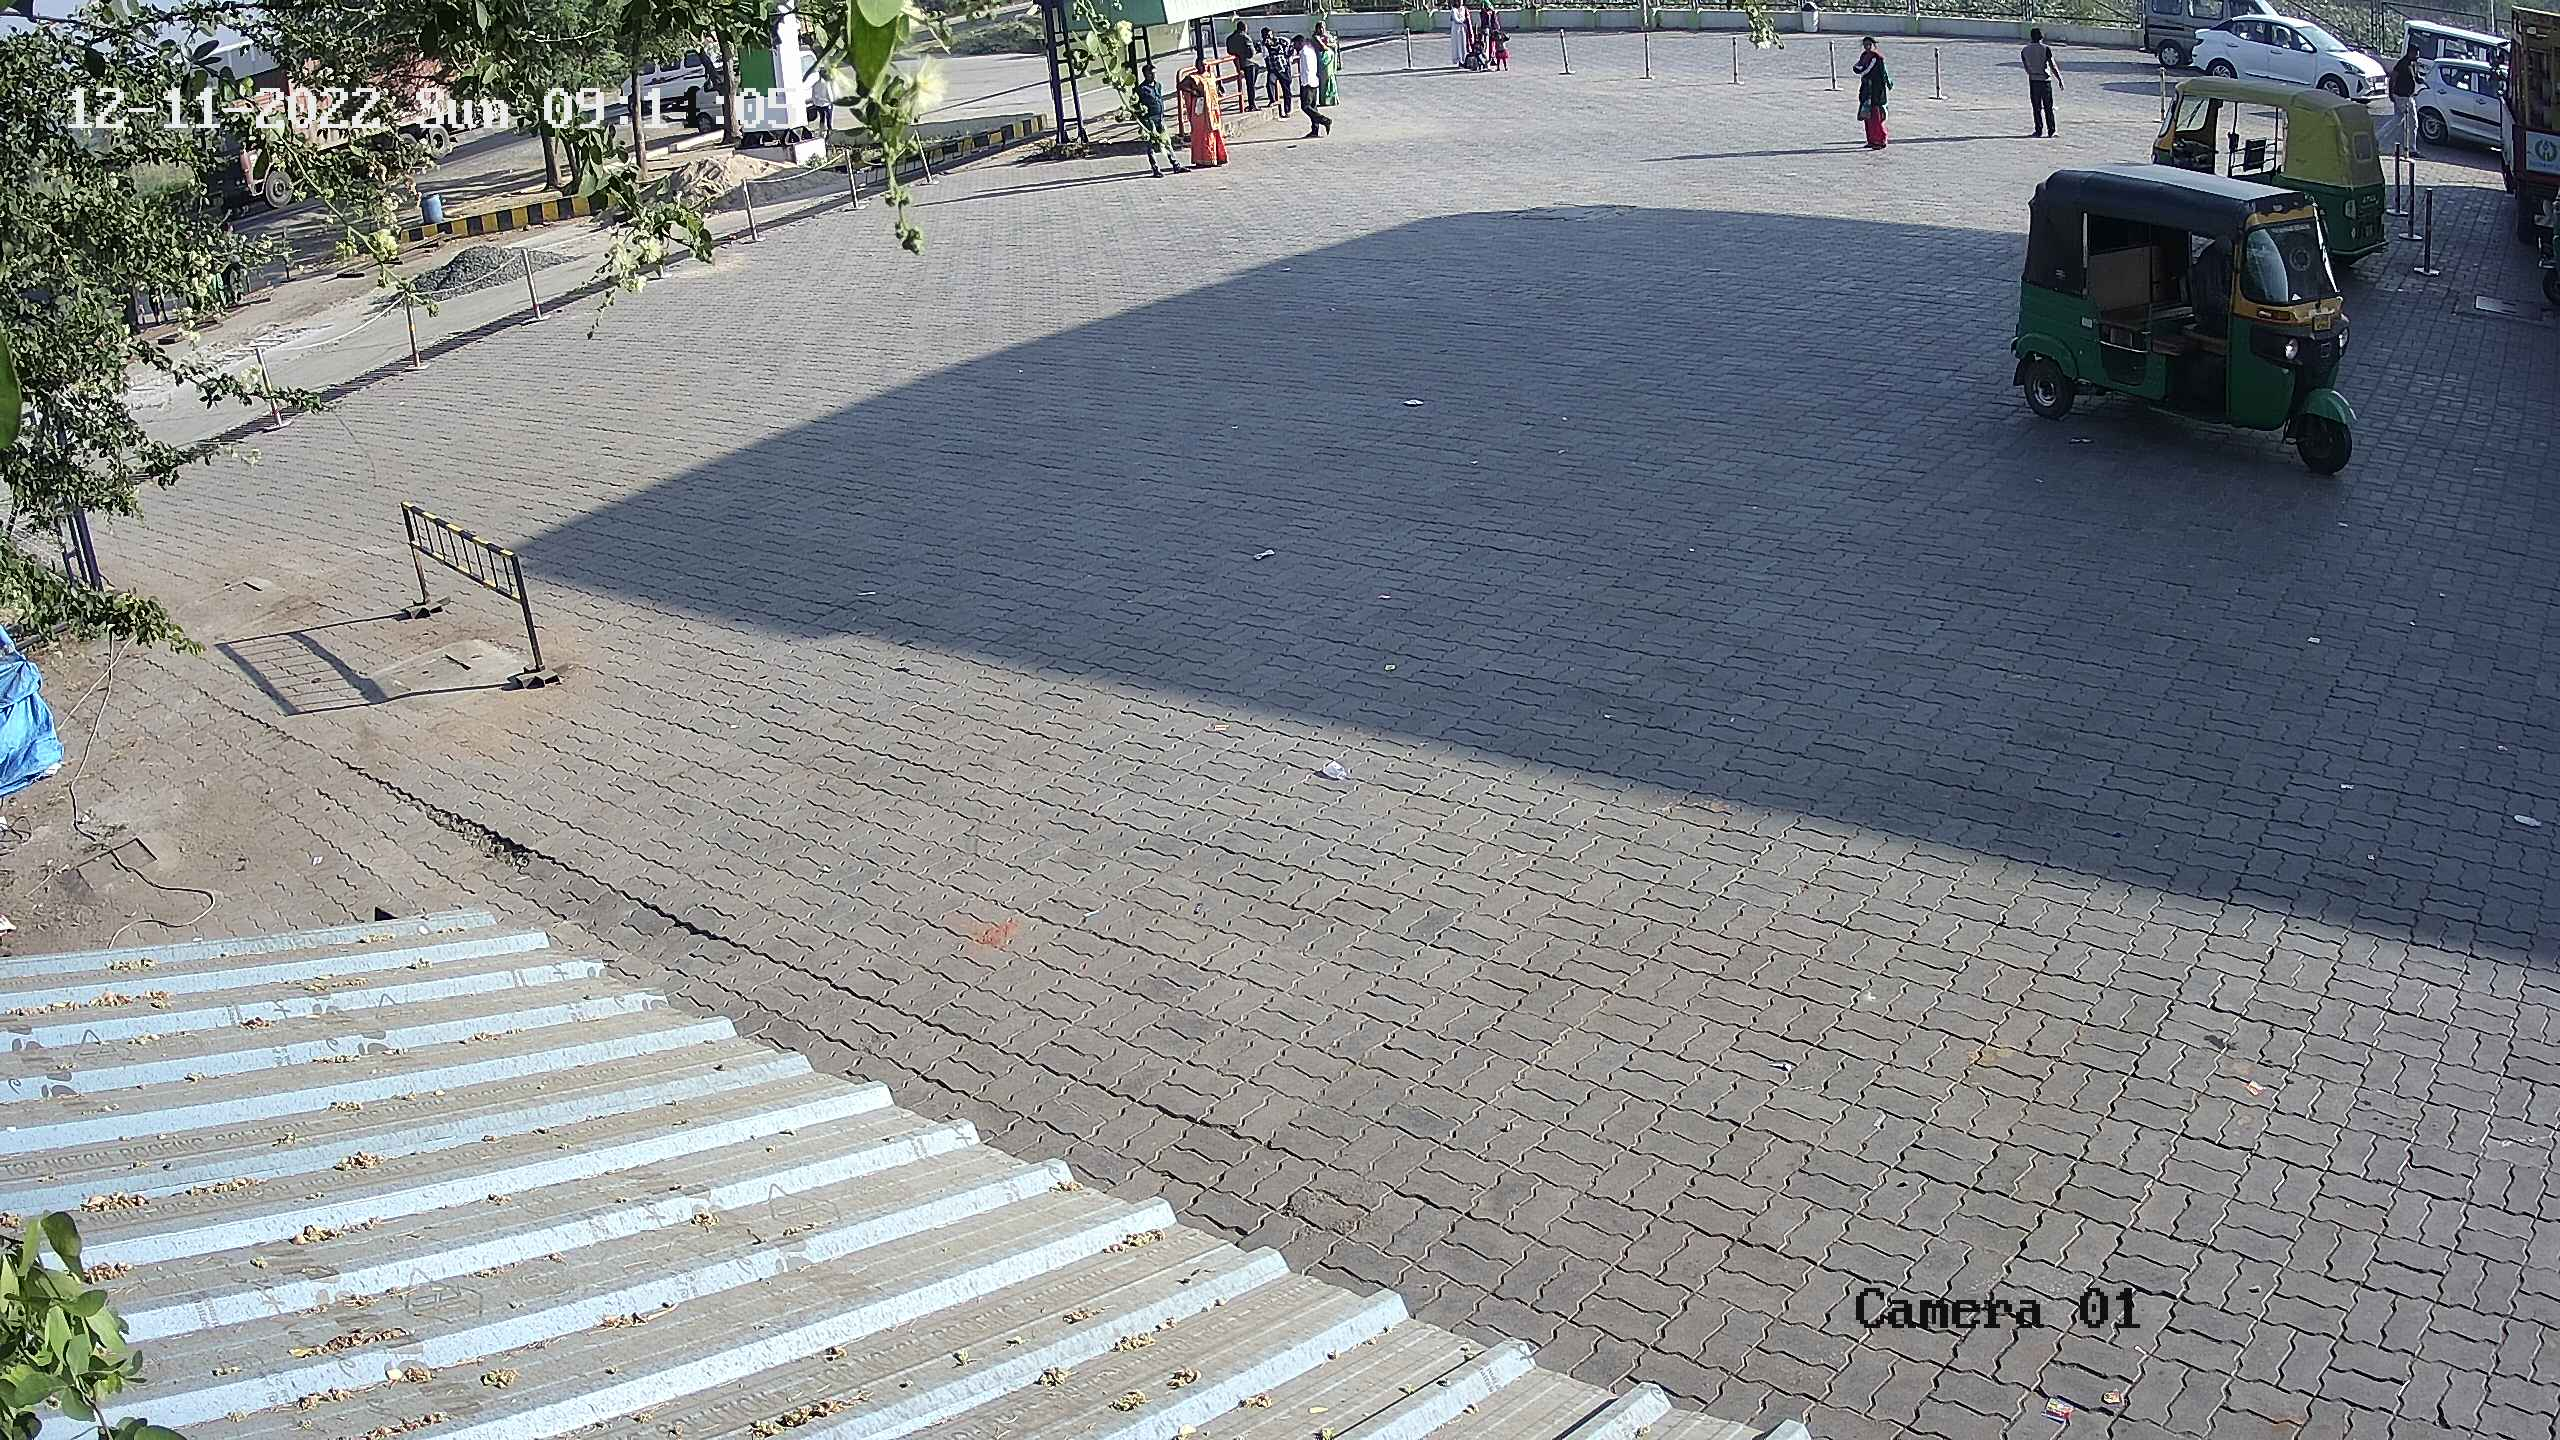Auto: (2001, 134, 2360, 473), (2143, 67, 2409, 304), (2509, 141, 2558, 332)
Car: (2171, 5, 2402, 114), (596, 16, 761, 139), (2374, 4, 2527, 135), (2126, 0, 2310, 90), (2396, 46, 2521, 164), (673, 47, 760, 162)
HMV: (176, 4, 549, 236), (2453, 2, 2556, 176)
